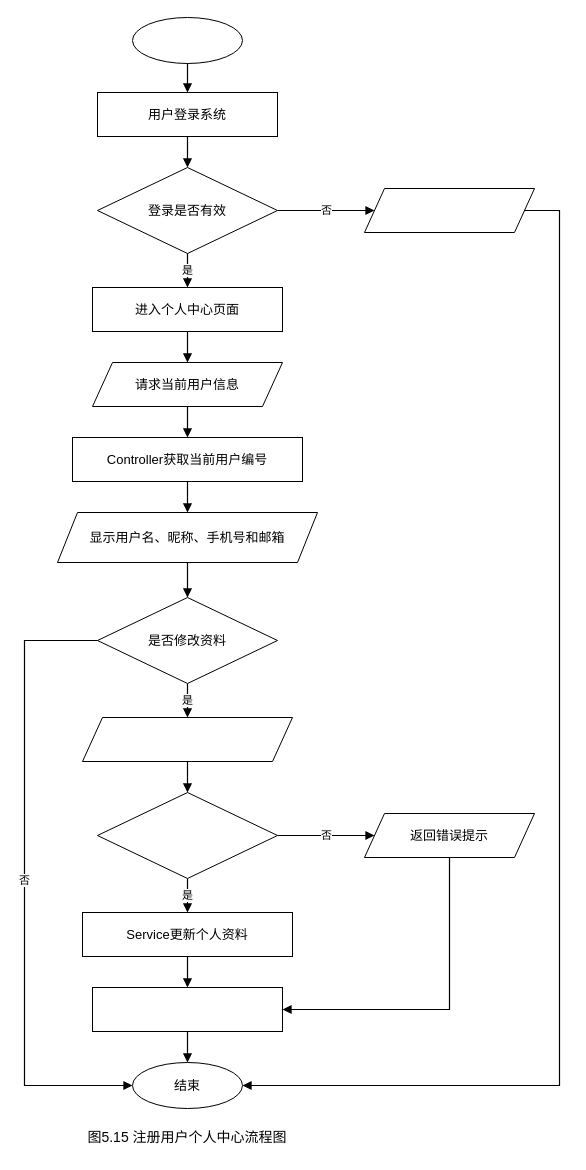
The diagram is 586 pixels wide and 1170 high, and some of its shapes have lost their labels. The centre of each missing label's shape, as x and y in pixels:
信息是否合法: [187,835]
刷新个人中心信息: [187,1009]
开始: [187,40]
提交资料或密码修改: [187,739]
提示重新登录: [449,210]
